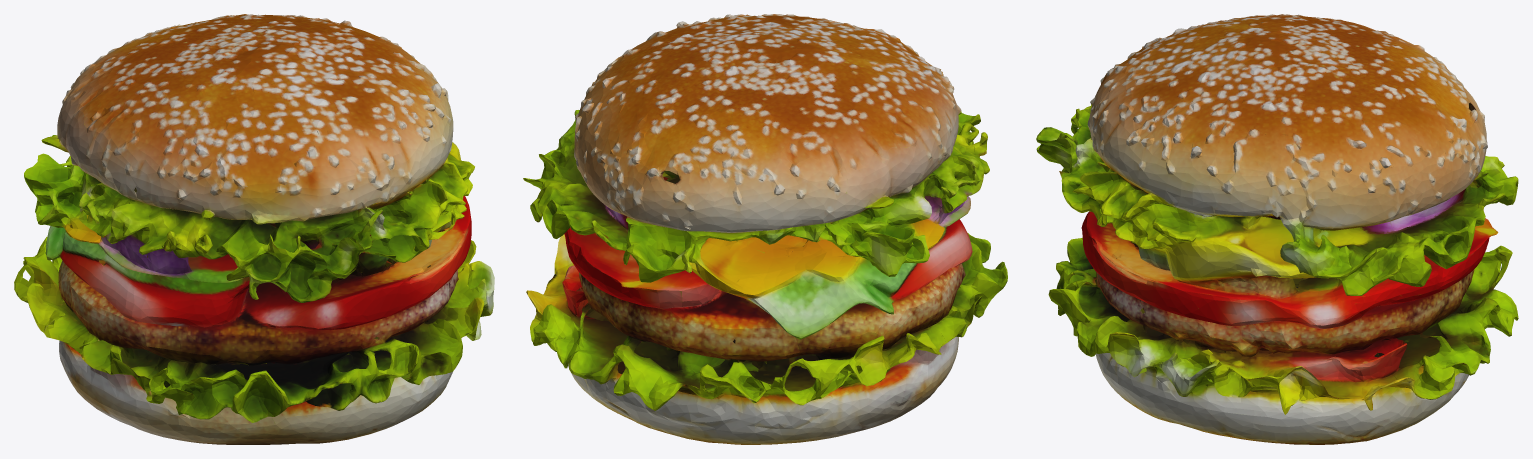
The picture shows the model from 3 angles, left to right: view 1: azimuth 30°, elevation 25°; view 2: azimuth 150°, elevation 25°; view 3: azimuth 270°, elevation 25°; orthographic projection. The views are drawn at different scales.
Bounding box in the file's own units: 93.93 × 73.59 × 100.
Materials: 1 (1 with a texture image).
